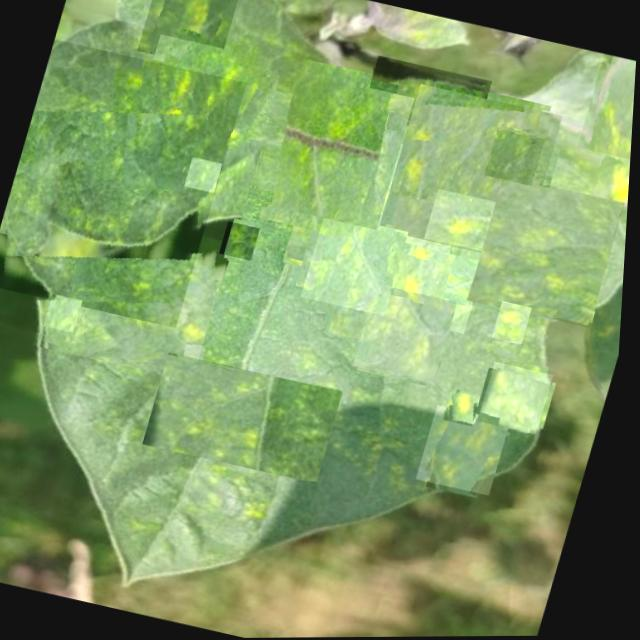leaf_spot: (0, 38, 249, 330), (304, 132, 515, 335), (35, 206, 237, 383), (379, 84, 565, 263), (246, 68, 417, 231), (145, 351, 349, 485), (469, 175, 628, 329), (127, 33, 278, 179), (361, 55, 494, 142), (303, 213, 411, 317), (355, 284, 461, 385), (421, 405, 516, 496), (136, 0, 240, 69), (578, 54, 637, 170), (426, 188, 522, 258), (482, 362, 558, 436), (485, 128, 547, 187), (590, 141, 633, 213), (495, 301, 536, 346), (221, 221, 263, 261), (46, 293, 86, 333), (185, 157, 224, 193), (447, 391, 485, 427)
